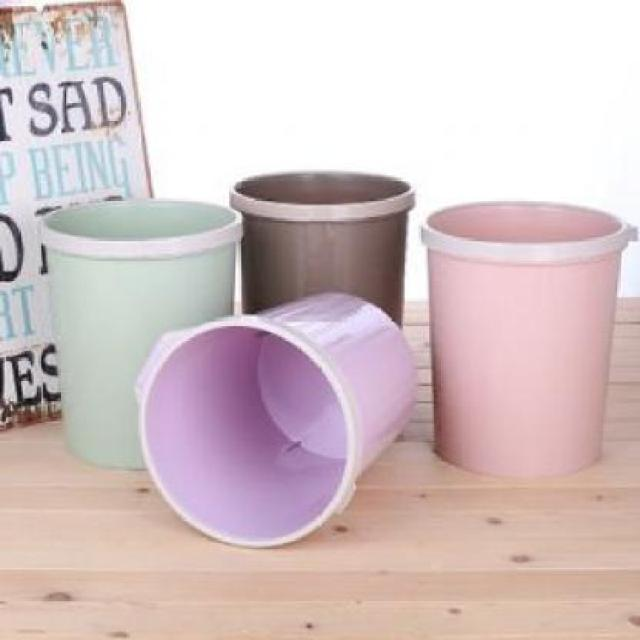dustbin: (131, 288, 423, 550), (414, 194, 640, 481), (37, 195, 247, 473), (227, 166, 418, 338)
